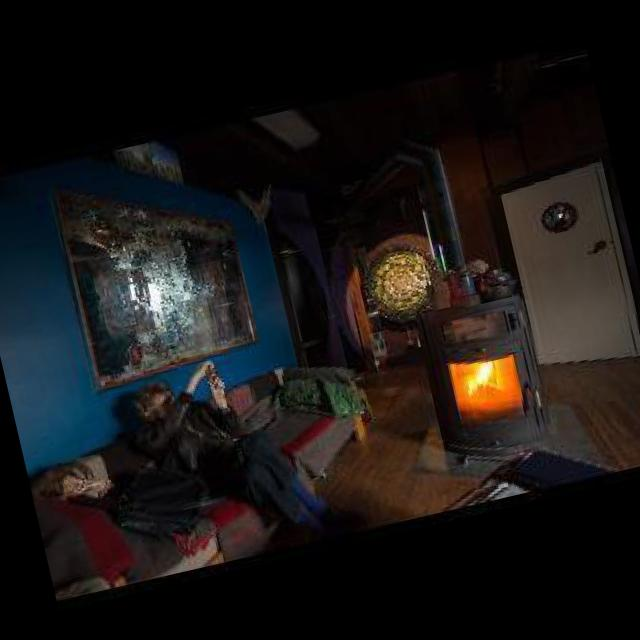Fire: (449, 352, 518, 410)
